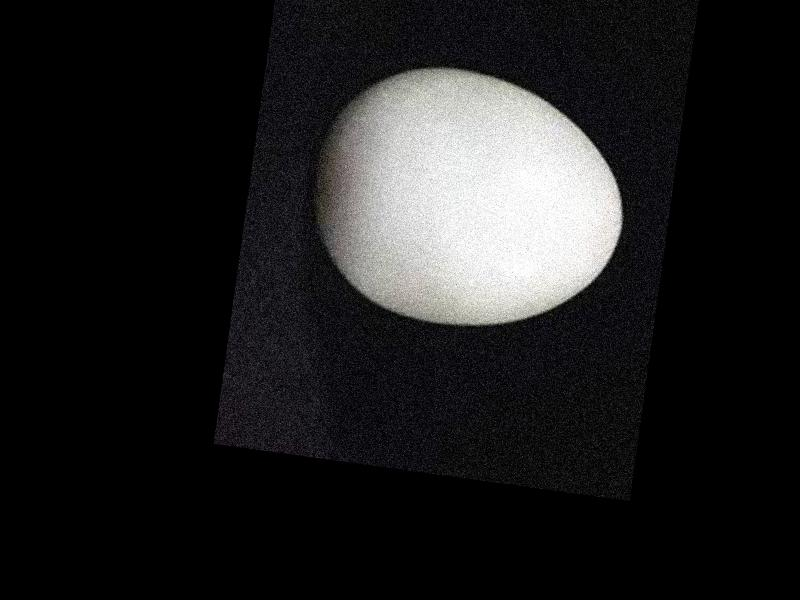Eggs: (295, 55, 637, 343)
